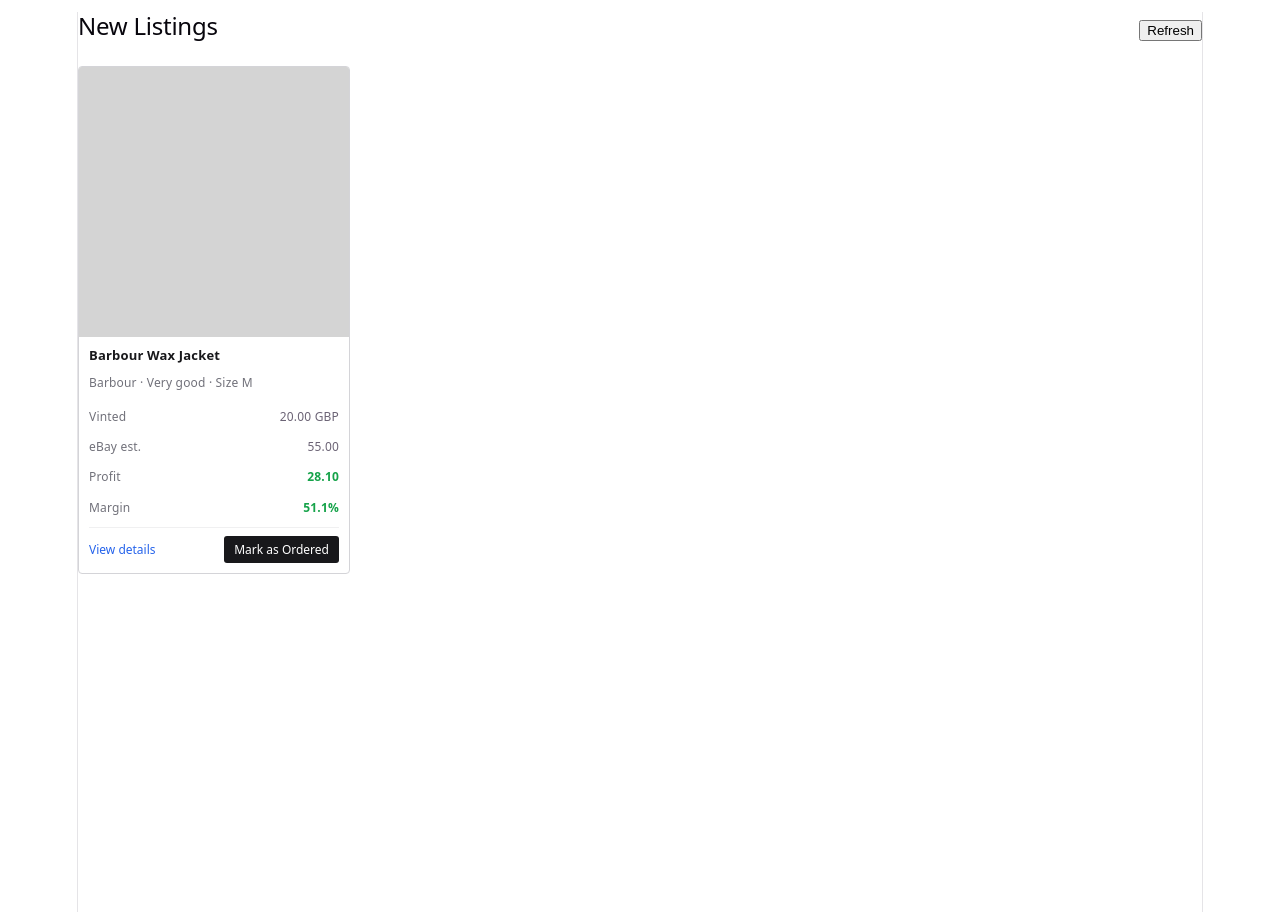
Test case: NewListings › marks a listing as ordered and removes it from the list after refetch
Click the button "Mark as Ordered". click: (282, 549)
box: [224,536,339,563]
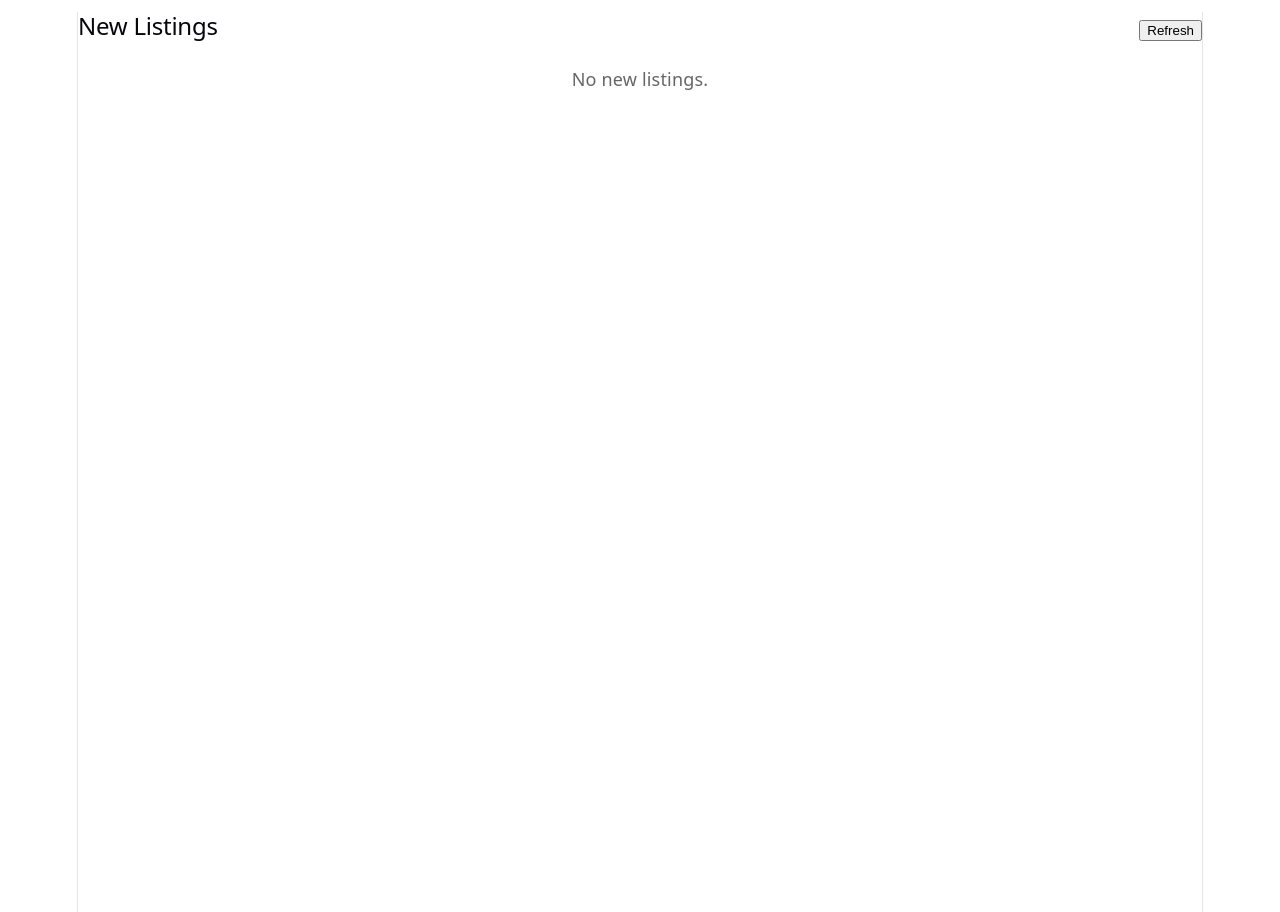
Check: the text "No new listings." is shown, box [572,67,708,91]
